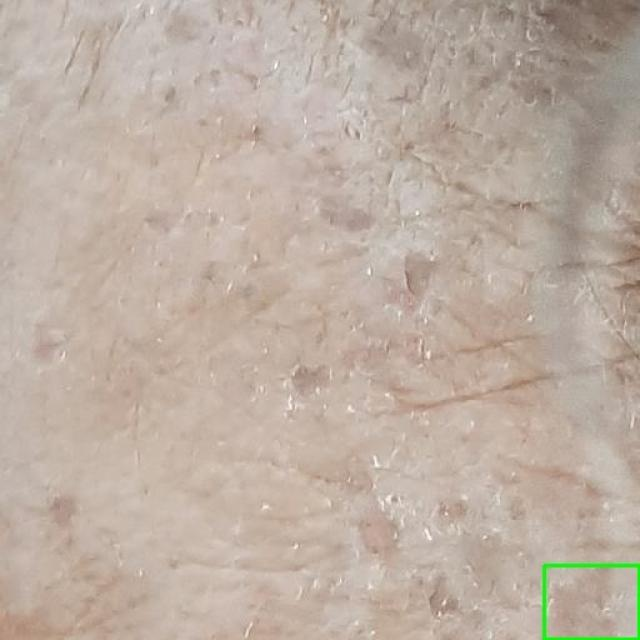Seborrheic Dermatitis: (544, 565, 639, 639)
